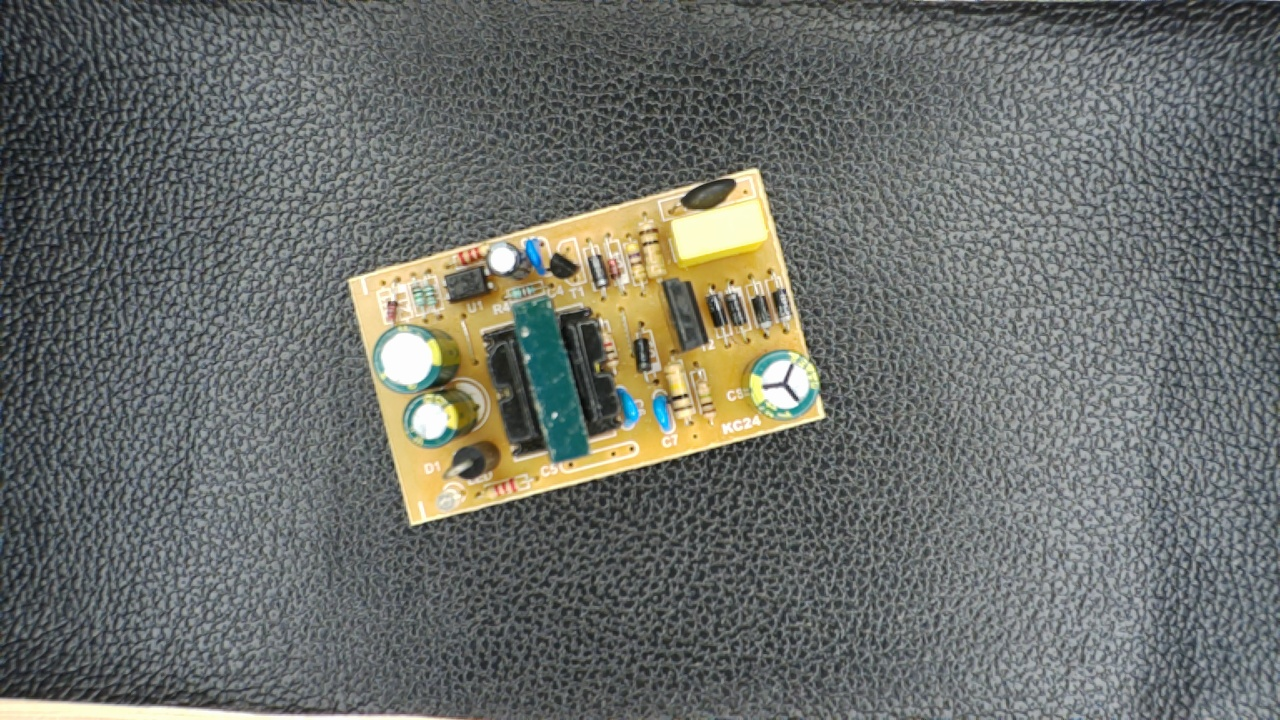fuse: (659, 174, 755, 216)
hv_capacitor: (737, 347, 824, 423)
optocoupler: (432, 266, 498, 305)
